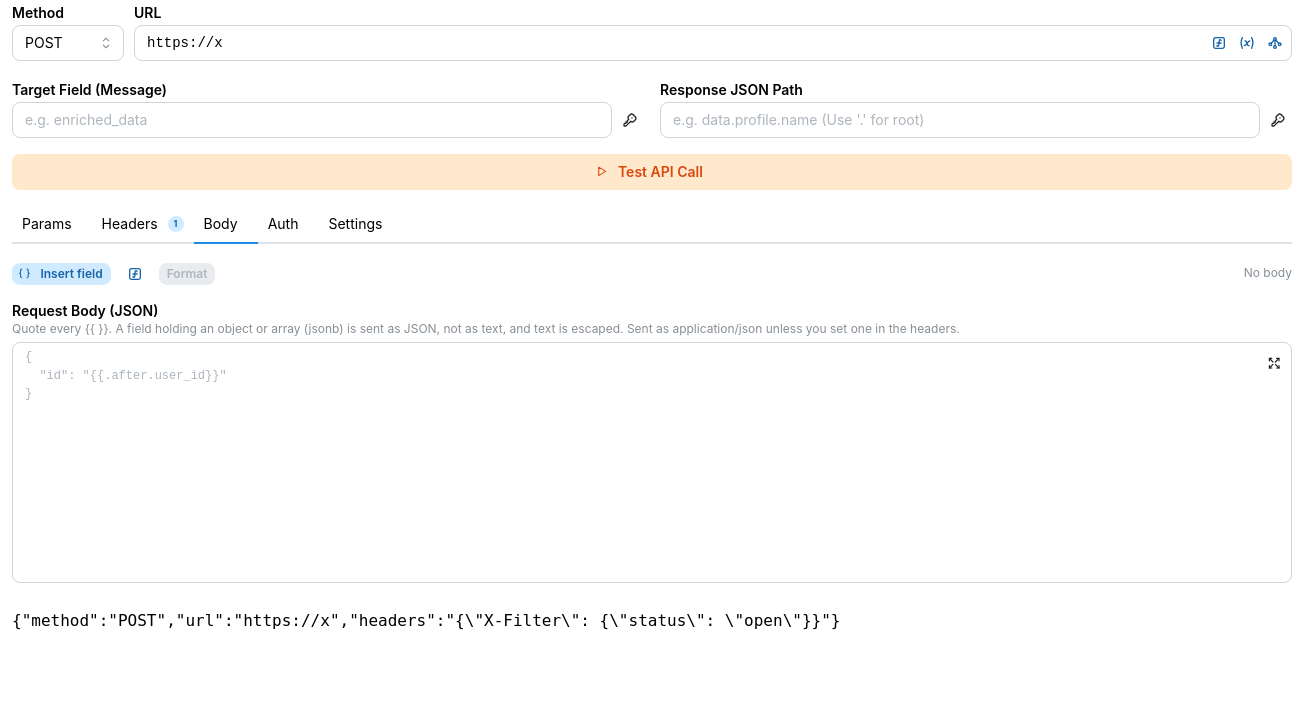
Test: api_lookup request editor › opens headers it cannot show as rows as JSON, untouched
The image size is (1304, 720).
Click the tab "Headers 1" at (143, 225), box [92, 206, 194, 244]
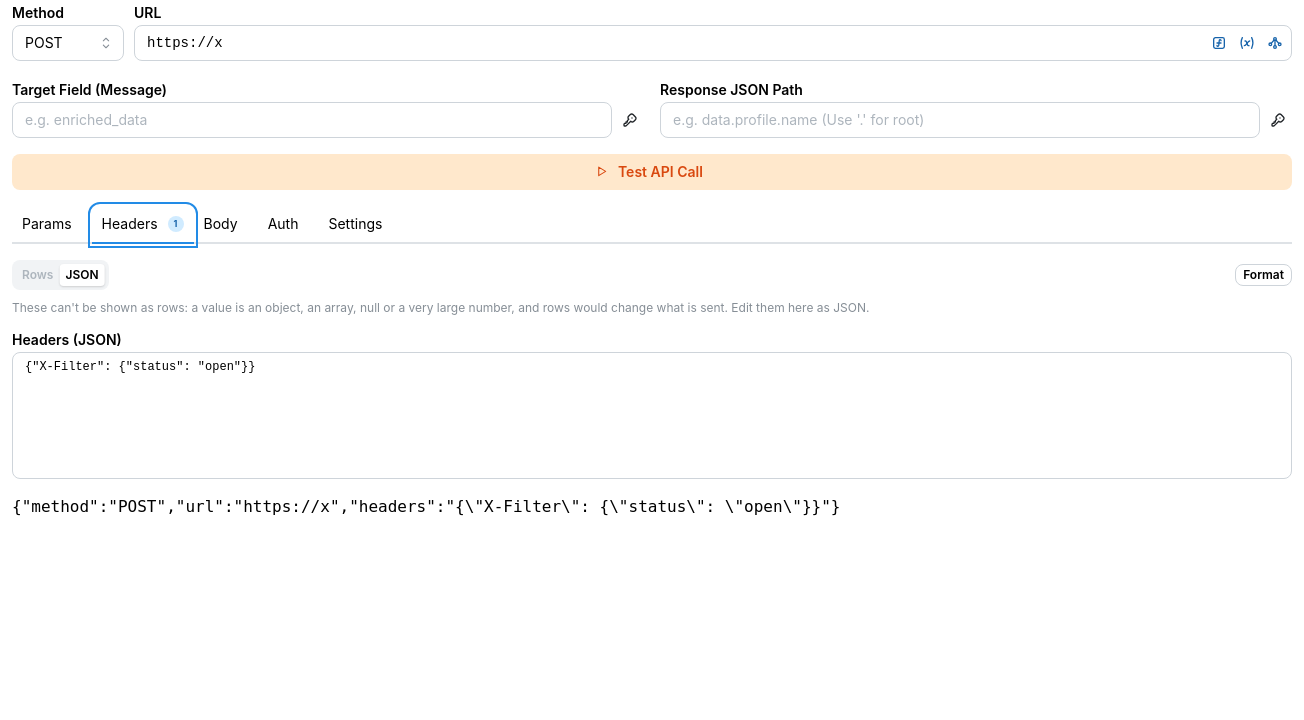
Result: the text box labelled "Headers (JSON)" holds "{\"X-Filter\": {\"status\": \"open\"}}" at [12, 352, 1292, 479]
Result: the text "can.t be shown as rows" is shown at [12, 300, 870, 315]
